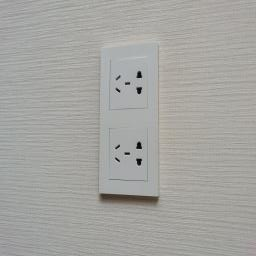outlet: (94, 37, 162, 202)
